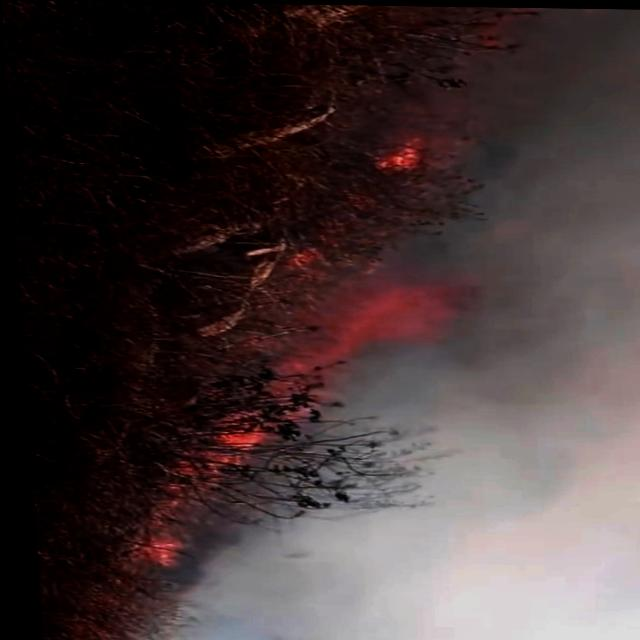fire: (294, 272, 489, 367)
smoke: (556, 336, 640, 640)
